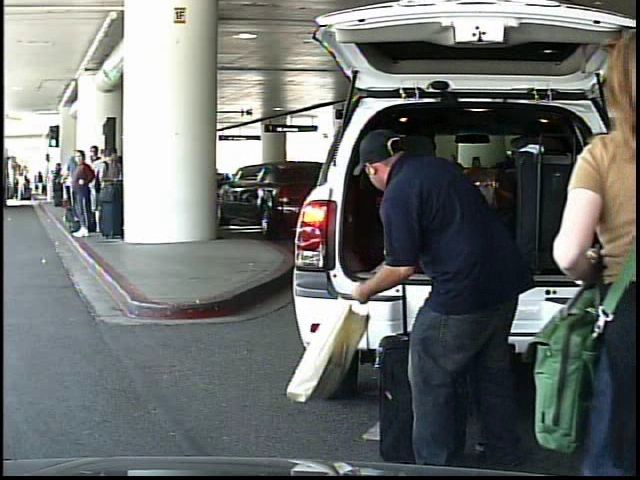person: (340, 114, 523, 480), (17, 174, 28, 205), (36, 172, 46, 199)
